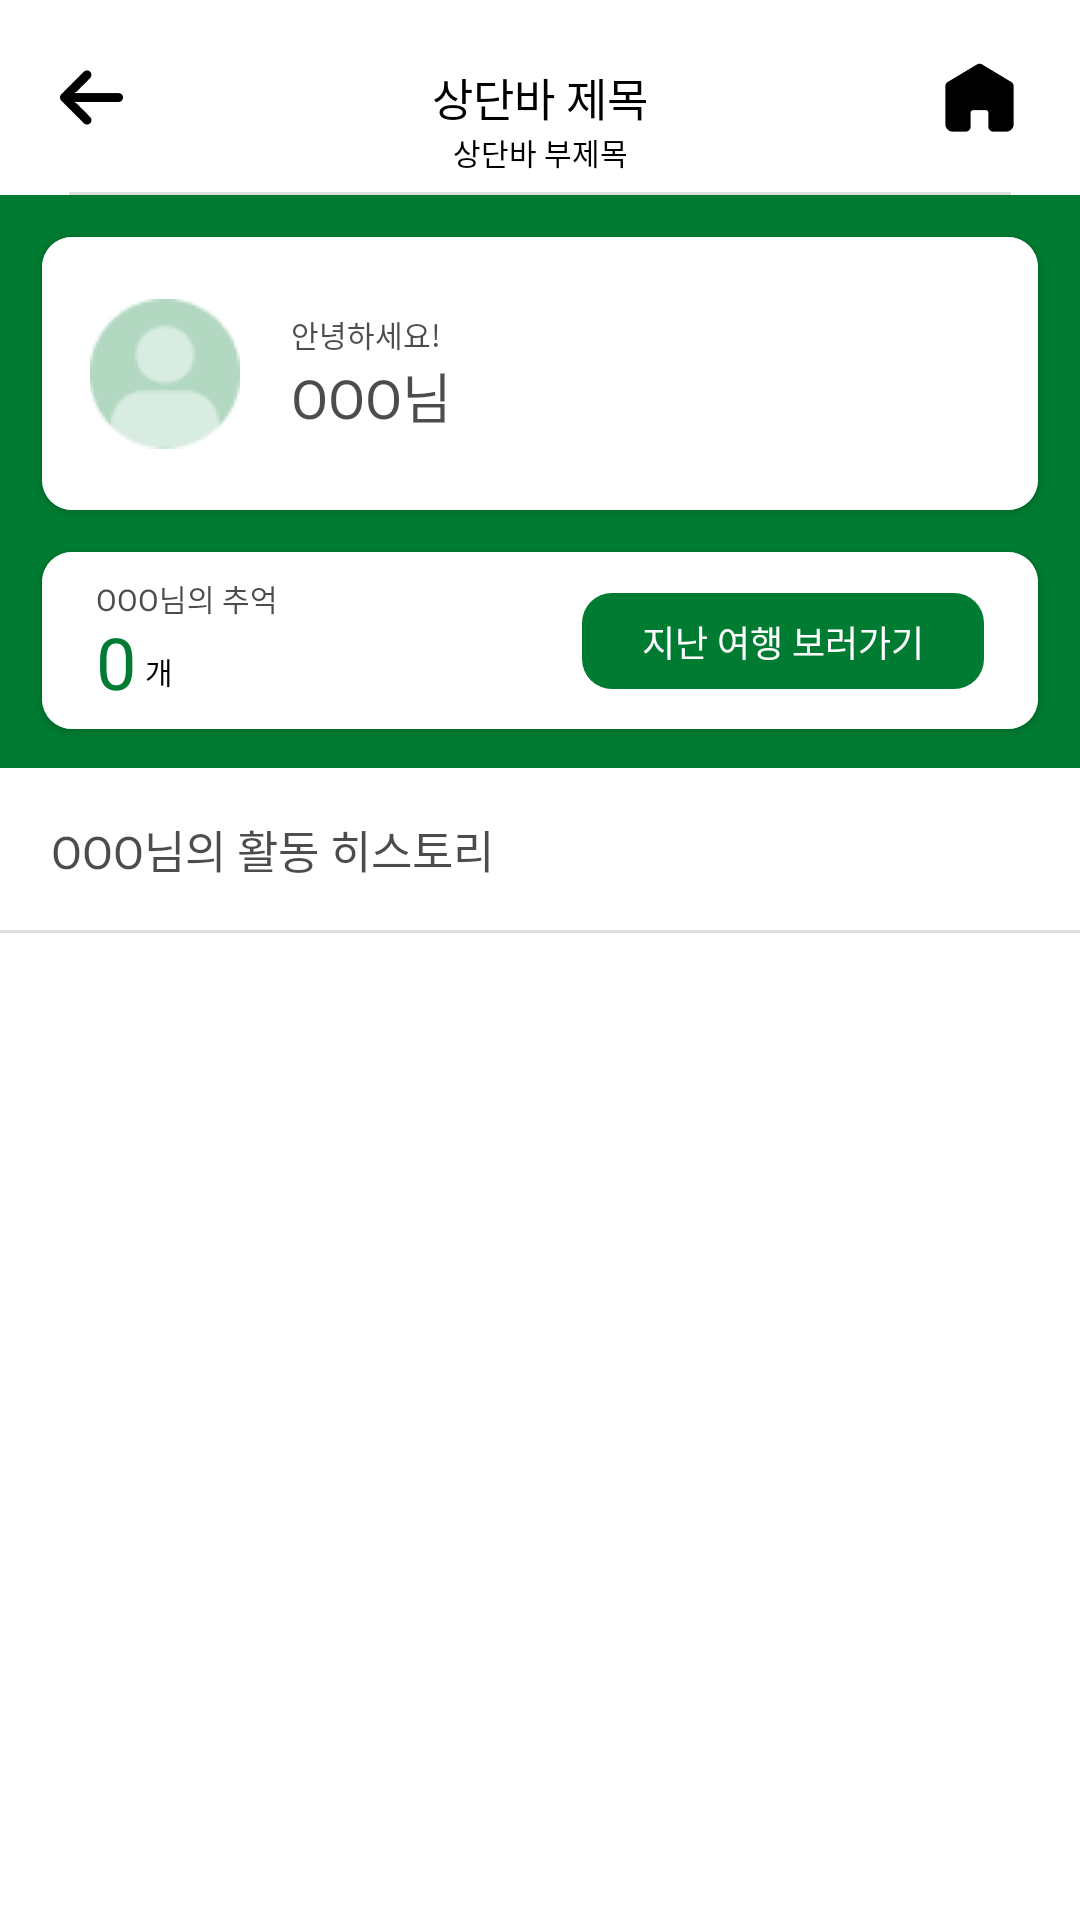

Where icons sit on this 1080w x 1920h app screen, as (x1, y1, x2, y2):
base back: (60, 70, 123, 125)
base home: (945, 63, 1014, 132)
home profile: (90, 299, 240, 449)
